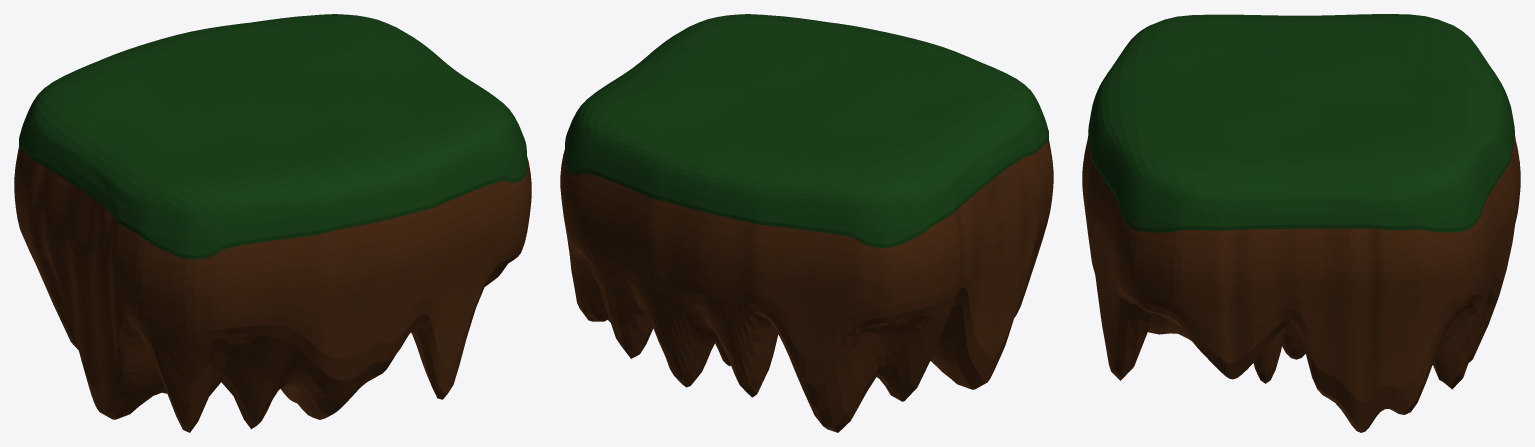
The model's file is island.fbx.
3 views of the same model, side by side, from view 1: azimuth 30°, elevation 25°; view 2: azimuth 150°, elevation 25°; view 3: azimuth 270°, elevation 25° (orthographic). The views are drawn at different scales.
Parts seen in each view (by area): view 1: Grass, Island; view 2: Grass, Island; view 3: Grass, Island.
Boxes of the visible parts, bbox=[...] form: Grass: bbox=[19, 14, 526, 259]; Island: bbox=[14, 147, 531, 432]; Grass: bbox=[564, 14, 1048, 247]; Island: bbox=[560, 141, 1053, 432]; Grass: bbox=[1088, 14, 1514, 232]; Island: bbox=[1082, 135, 1520, 432].
Size of what is drawn, in the model's own units: 1001 by 675 by 947.
